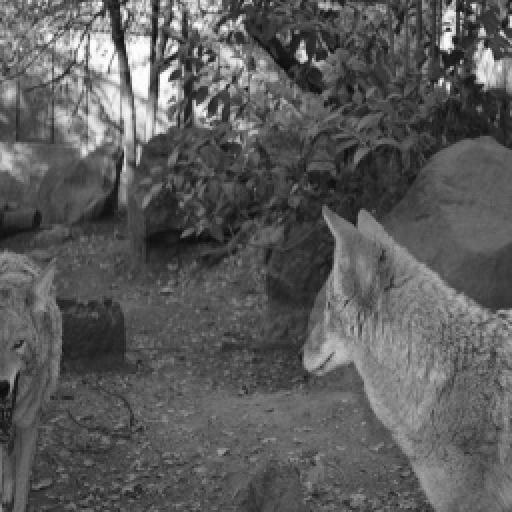zorro: (300, 208, 510, 510), (0, 252, 60, 510)
